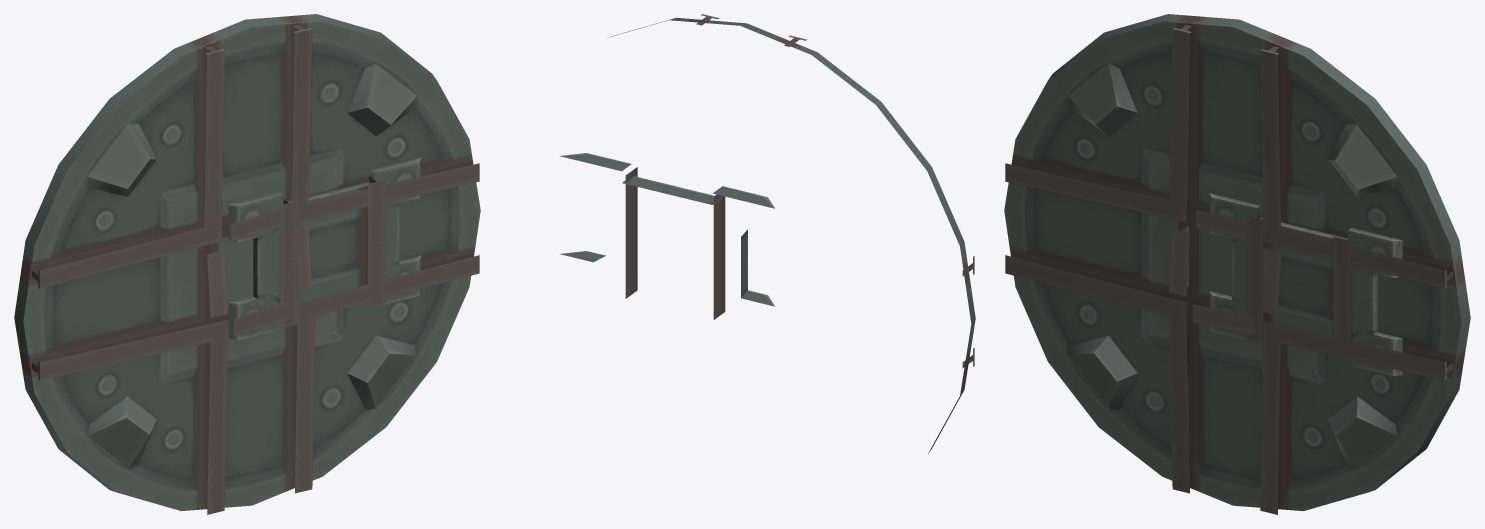
The model's file is track_turntable.glb.
The picture shows the model from 3 angles, left to right: view 1: azimuth 30°, elevation 25°; view 2: azimuth 150°, elevation 25°; view 3: azimuth 330°, elevation 25°; orthographic projection.
Visible parts, largest first — view 1: arcade.track_turntable-MeshSets[turntable].Mesh[1], arcade.track_turntable-MeshSets[turntable].Mesh[0], arcade.track_turntable-MeshSets[turntable_connector].Mesh[1], arcade.track_turntable-MeshSets[turntable_connector].Mesh[0]; view 2: arcade.track_turntable-MeshSets[turntable].Mesh[1], arcade.track_turntable-MeshSets[turntable_connector].Mesh[1], arcade.track_turntable-MeshSets[turntable_connector].Mesh[0]; view 3: arcade.track_turntable-MeshSets[turntable].Mesh[1], arcade.track_turntable-MeshSets[turntable].Mesh[0], arcade.track_turntable-MeshSets[turntable_connector].Mesh[1], arcade.track_turntable-MeshSets[turntable_connector].Mesh[0].
Part boxes in pixels (x1,y1,x2,y2): arcade.track_turntable-MeshSets[turntable].Mesh[1]: (14,14,480,511); arcade.track_turntable-MeshSets[turntable].Mesh[0]: (32,24,479,514); arcade.track_turntable-MeshSets[turntable_connector].Mesh[1]: (228,157,421,340); arcade.track_turntable-MeshSets[turntable_connector].Mesh[0]: (280,176,385,328); arcade.track_turntable-MeshSets[turntable].Mesh[1]: (609,17,975,453); arcade.track_turntable-MeshSets[turntable_connector].Mesh[1]: (559,153,774,306); arcade.track_turntable-MeshSets[turntable_connector].Mesh[0]: (625,167,725,319); arcade.track_turntable-MeshSets[turntable].Mesh[1]: (1004,14,1470,511); arcade.track_turntable-MeshSets[turntable].Mesh[0]: (1005,24,1452,514); arcade.track_turntable-MeshSets[turntable_connector].Mesh[1]: (1209,193,1402,375); arcade.track_turntable-MeshSets[turntable_connector].Mesh[0]: (1245,215,1350,364).
Size of the model in its own units: 3.16 by 3.16 by 0.222.
2 materials, 2 textured.
